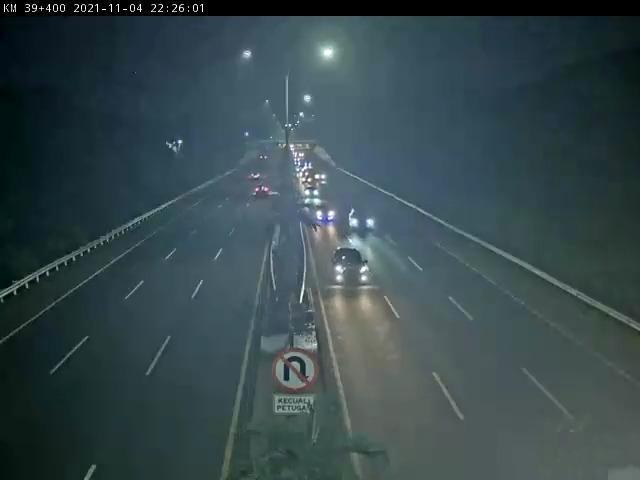car: (328, 245, 371, 297), (340, 204, 390, 235), (298, 190, 325, 209), (316, 209, 343, 226), (253, 181, 273, 199)
